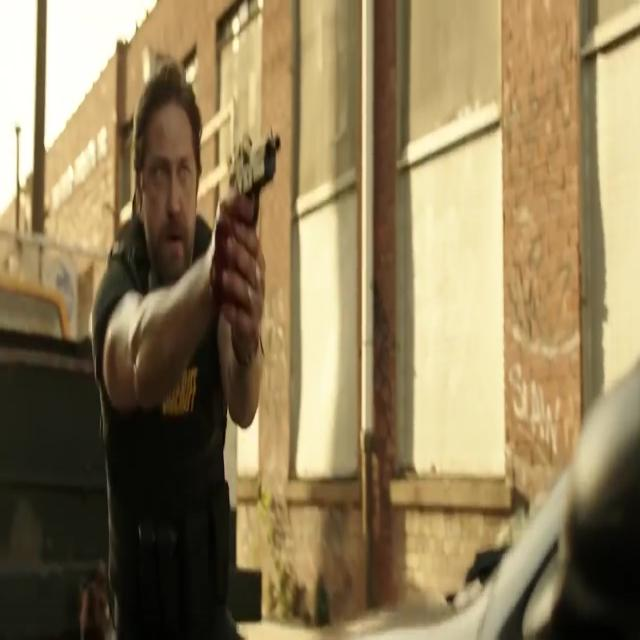Weapon: (212, 134, 300, 274)
